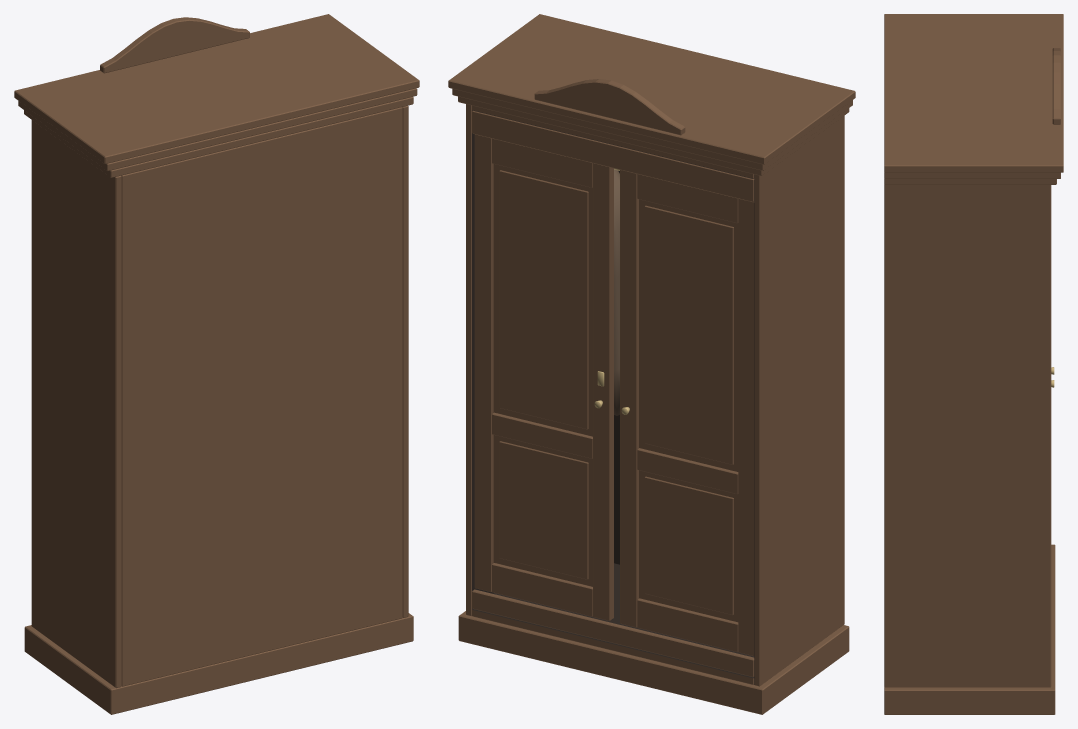
File: study_wardrobe.glb
3 renders of one model, left to right at view 1: azimuth 30°, elevation 25°; view 2: azimuth 150°, elevation 25°; view 3: azimuth 270°, elevation 25°, orthographic.
Parts seen in each view (by area): view 1: Wardrobe_Carcass; view 2: Wardrobe_Carcass, Door_R, Door_L, Wardrobe_Coats; view 3: Wardrobe_Carcass.
Boxes of the visible parts, x1,y1,x2,y2 form: Wardrobe_Carcass: (14, 14, 419, 714); Wardrobe_Carcass: (448, 14, 855, 714); Door_R: (474, 134, 613, 620); Door_L: (620, 169, 754, 656); Wardrobe_Coats: (614, 168, 619, 415); Wardrobe_Carcass: (884, 14, 1063, 714).
Size of the model in its own units: 1.29 by 2.33 by 0.645.
